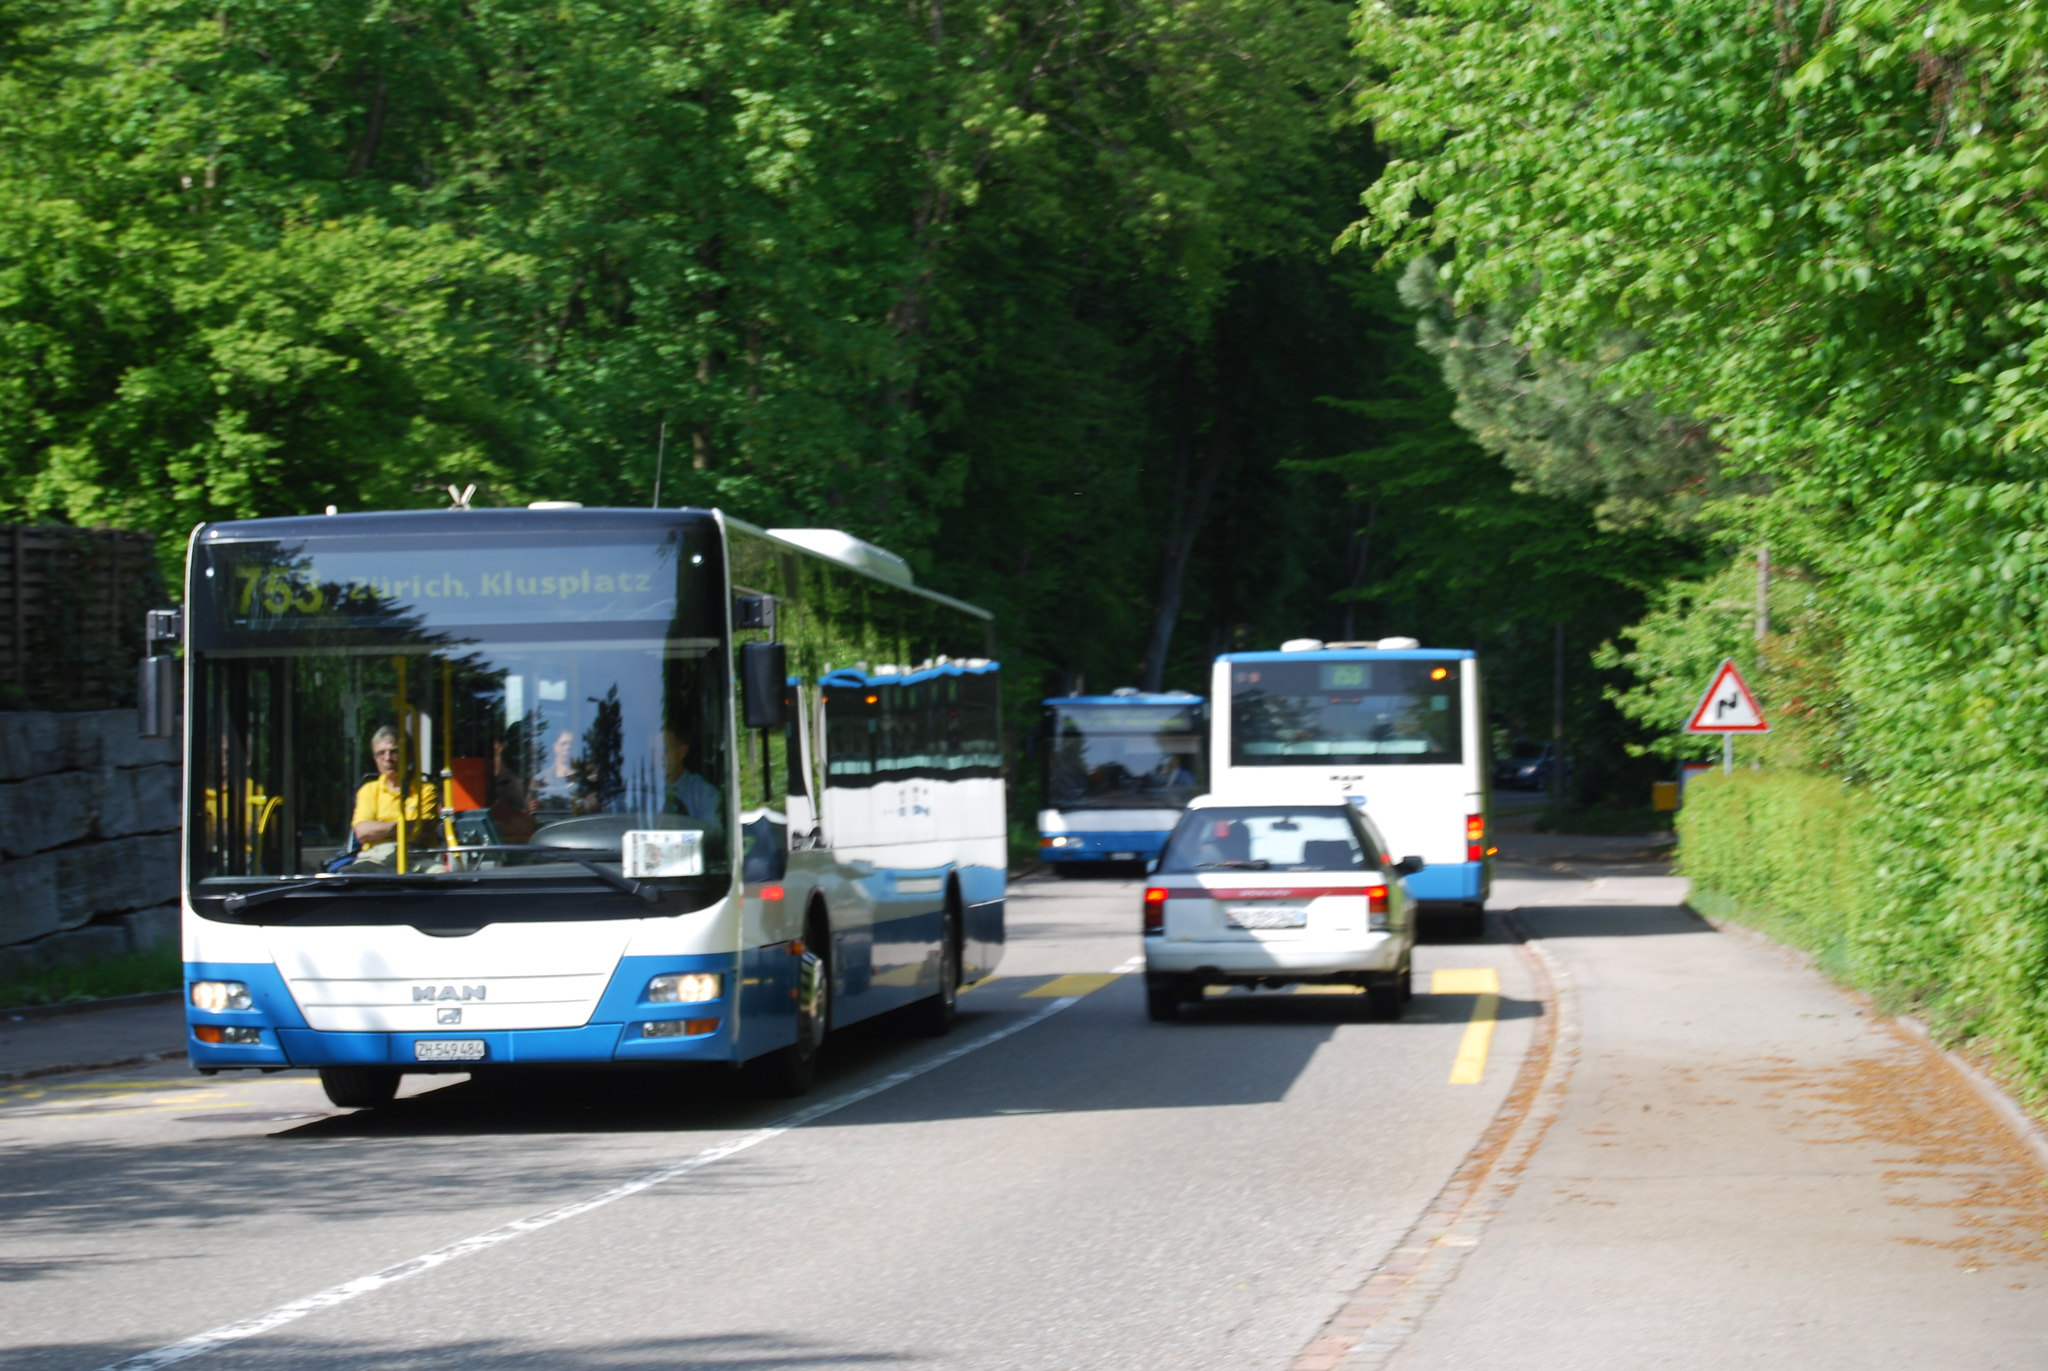bus: (161, 484, 1020, 1122), (1207, 632, 1500, 913)
car: (1144, 779, 1430, 1024)
